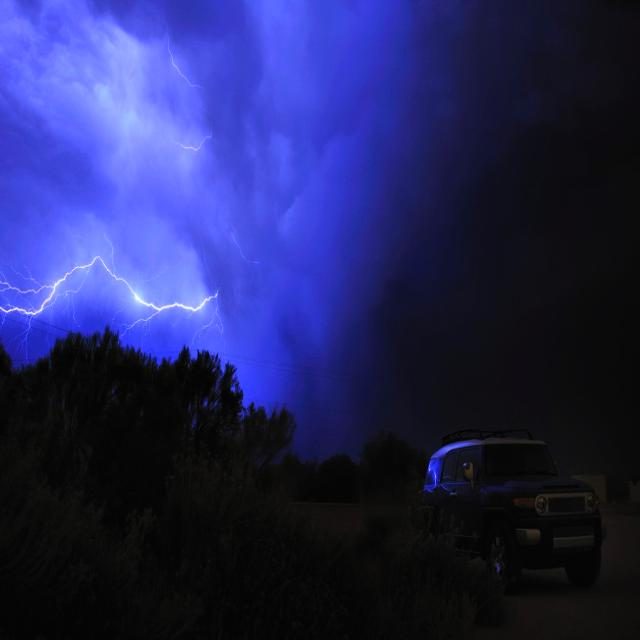Car: (420, 424, 610, 593)
